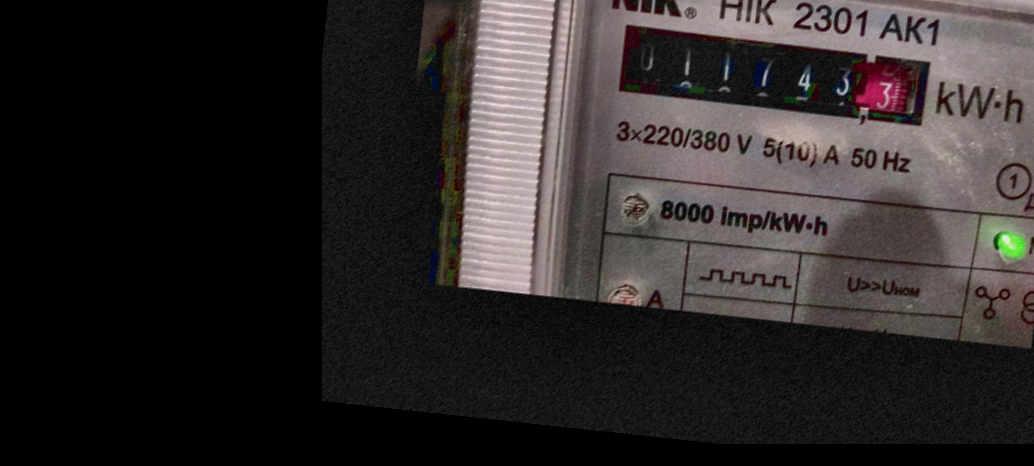0: (634, 37, 657, 75)
1: (717, 47, 735, 82), (680, 43, 694, 77)
3: (830, 62, 852, 99), (873, 79, 894, 113)
4: (793, 58, 814, 94)
7: (754, 53, 776, 89)
screen: (602, 11, 944, 140)
